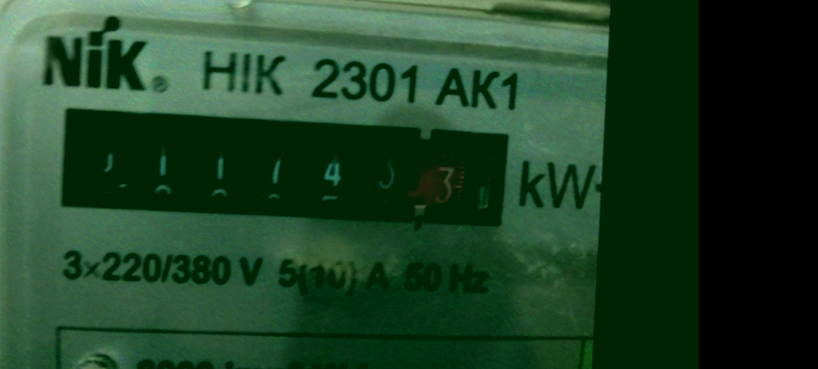0: (89, 127, 120, 176)
1: (209, 134, 232, 183), (154, 131, 173, 180)
3: (373, 144, 403, 193), (432, 161, 458, 207)
4: (319, 141, 349, 190)
7: (265, 139, 291, 188)
screen: (45, 97, 516, 238)
